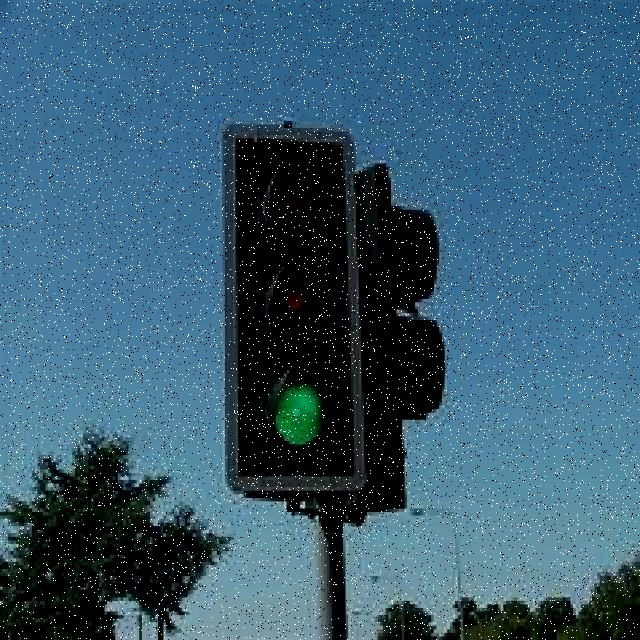Zielone swiatlo: (239, 139, 346, 466)
